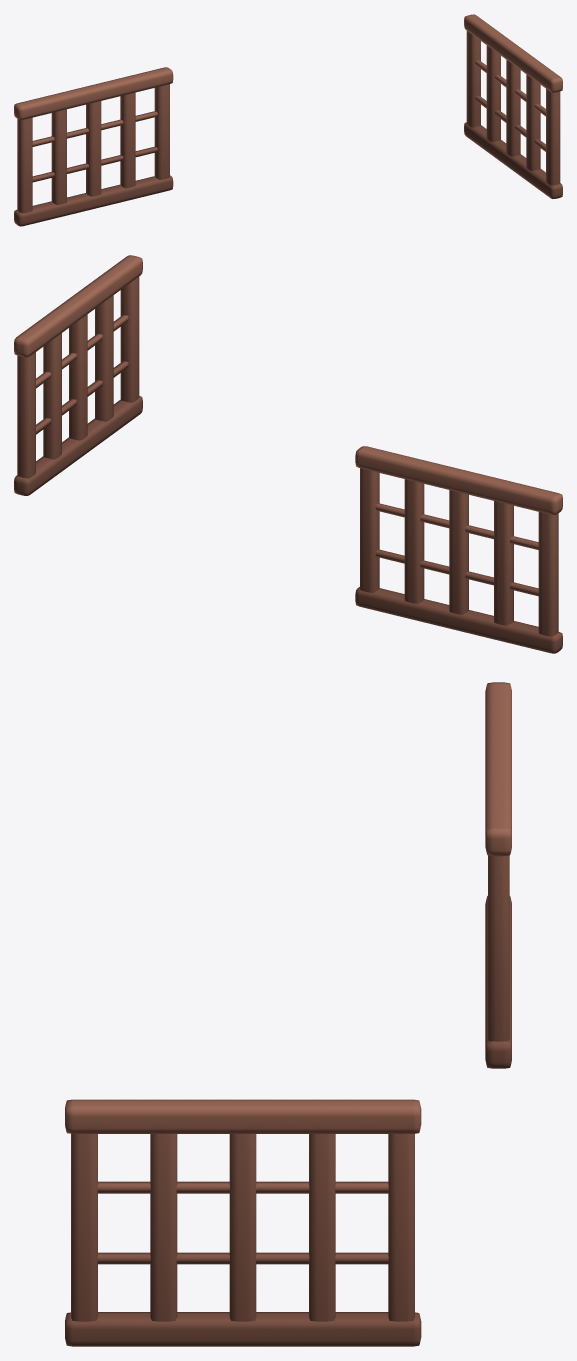
Rendered from SM_Wood_Window_06.fbx.
The picture shows the model from 3 angles, top to bottom: view 1: azimuth 30°, elevation 25°; view 2: azimuth 150°, elevation 25°; view 3: azimuth 270°, elevation 25°; orthographic projection. The views are drawn at different scales.
Visible parts, largest first — view 1: SM_Wood_Window_06; view 2: SM_Wood_Window_06; view 3: SM_Wood_Window_06.
Part boxes in pixels (left/top/right/bottom): SM_Wood_Window_06: left=14, top=14, right=562, bottom=226; SM_Wood_Window_06: left=14, top=255, right=562, bottom=653; SM_Wood_Window_06: left=65, top=682, right=511, bottom=1346.
Bounding box in the file's own units: 1.81 × 0.4728 × 0.8006.
